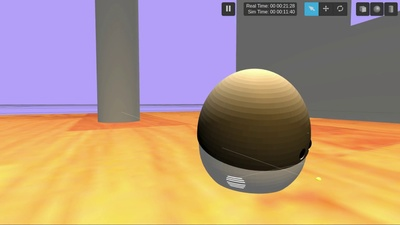mira_robot: (194, 68, 313, 194)
